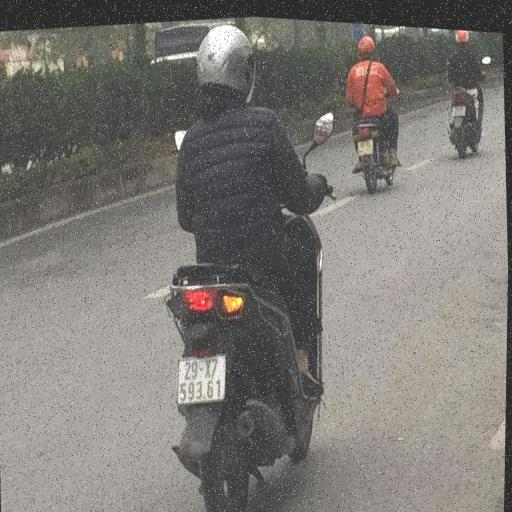bike: (148, 8, 355, 512), (336, 24, 412, 199), (439, 23, 490, 157)
numberplate: (175, 346, 230, 406), (356, 132, 374, 152), (451, 97, 466, 111)
with helmet: (191, 14, 259, 94), (355, 28, 377, 52), (454, 24, 468, 38)
